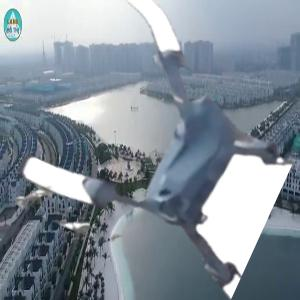drone: (35, 1, 296, 262)
